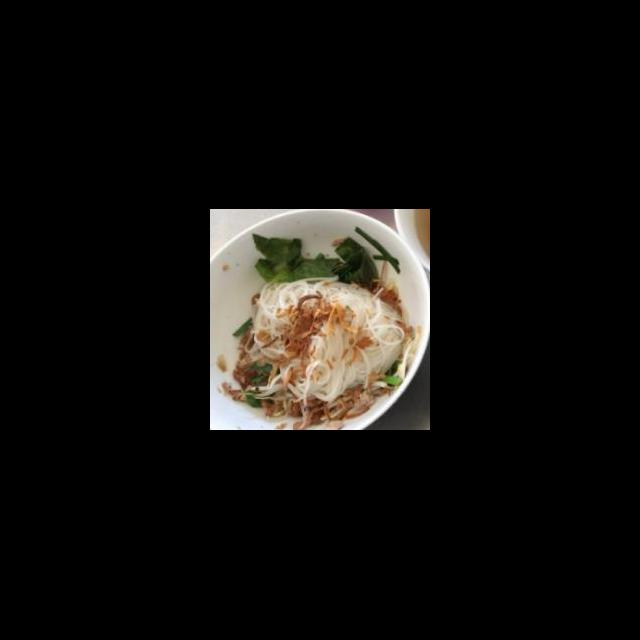banh hu tieu: (234, 270, 409, 404)
